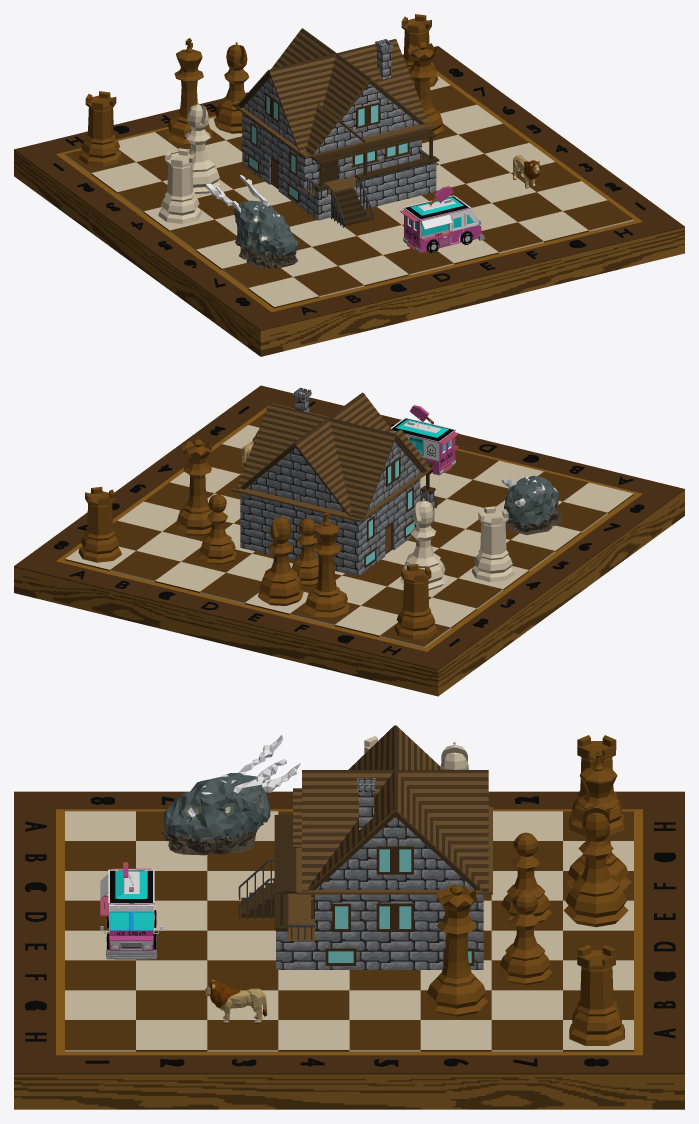
The picture shows the model from 3 angles, top to bottom: view 1: azimuth 30°, elevation 25°; view 2: azimuth 150°, elevation 25°; view 3: azimuth 270°, elevation 25°; orthographic projection. The views are drawn at different scales.
Parts seen in each view (by area): view 1: Cube.002, Cube.586, OBJRANDOM_METEORITE, VEHICLES_ICE_CREAM_TRUCK, ANIMAL_LEON; view 2: Cube.002, Cube.586, OBJRANDOM_METEORITE, VEHICLES_ICE_CREAM_TRUCK; view 3: Cube.002, Cube.586, OBJRANDOM_METEORITE, VEHICLES_ICE_CREAM_TRUCK, ANIMAL_LEON.
Part boxes in pixels (x1,y1,x2,y2): Cube.002: (14, 14, 684, 356); Cube.586: (232, 28, 439, 227); OBJRANDOM_METEORITE: (205, 175, 298, 268); VEHICLES_ICE_CREAM_TRUCK: (400, 186, 485, 253); ANIMAL_LEON: (513, 155, 540, 188); Cube.002: (14, 385, 684, 696); Cube.586: (232, 387, 436, 576); OBJRANDOM_METEORITE: (501, 475, 561, 534); VEHICLES_ICE_CREAM_TRUCK: (390, 405, 459, 475); Cube.002: (14, 735, 684, 1109); Cube.586: (238, 725, 492, 969); OBJRANDOM_METEORITE: (162, 735, 300, 855); VEHICLES_ICE_CREAM_TRUCK: (100, 862, 162, 959); ANIMAL_LEON: (204, 980, 267, 1023).
Size of the model in its own units: 3981 by 1471 by 4012.
43 materials, 3 textured.
